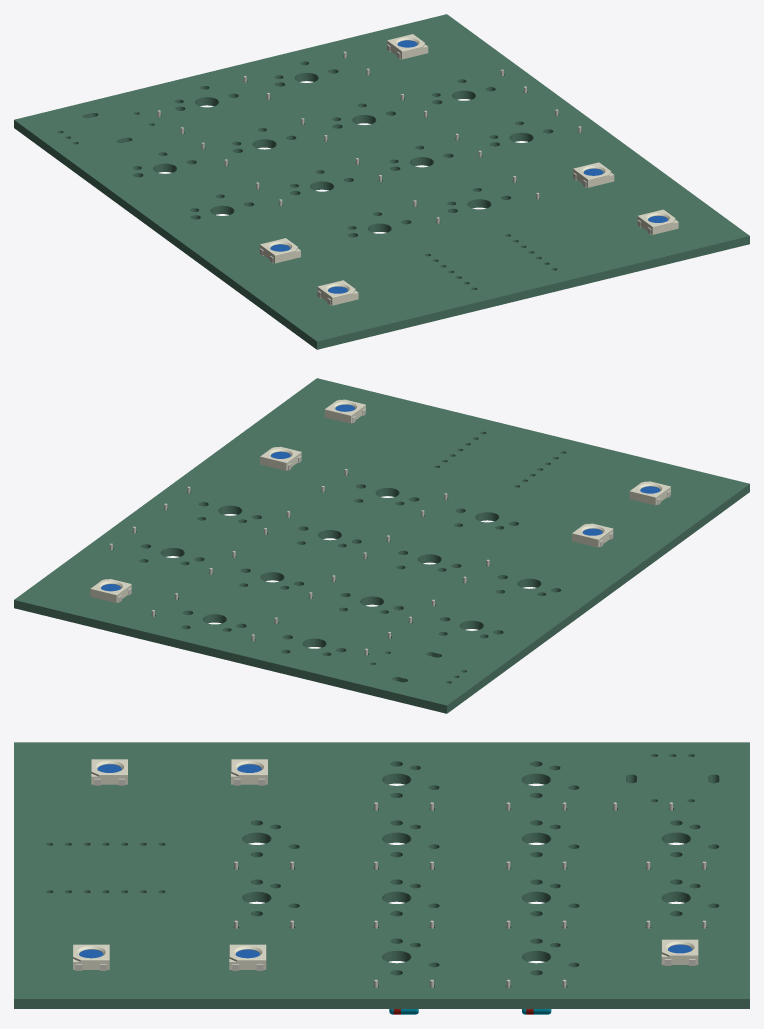
File: PCB.glb
The picture shows the model from 3 angles, top to bottom: view 1: azimuth 30°, elevation 25°; view 2: azimuth 150°, elevation 25°; view 3: azimuth 270°, elevation 25°; orthographic projection. The views are drawn at different scales.
Parts seen in each view (by area): view 1: =>[0:1:1:4], D14, D13, D17, D16, D15; view 2: =>[0:1:1:4], D13, D14, D17, D15, D16; view 3: =>[0:1:1:4], D15, D16, D17, D13, D14.
Part boxes in pixels (bbox=[...]): =>[0:1:1:4]: bbox=[14, 14, 749, 349]; D14: bbox=[317, 280, 358, 305]; D13: bbox=[259, 238, 300, 263]; D17: bbox=[637, 209, 678, 234]; D16: bbox=[573, 162, 614, 187]; D15: bbox=[387, 34, 428, 59]; =>[0:1:1:4]: bbox=[14, 378, 749, 713]; D13: bbox=[572, 523, 613, 547]; D14: bbox=[629, 481, 670, 505]; D17: bbox=[324, 399, 365, 423]; D15: bbox=[90, 579, 131, 602]; D16: bbox=[260, 446, 301, 470]; =>[0:1:1:4]: bbox=[14, 742, 749, 1008]; D15: bbox=[661, 939, 698, 966]; D16: bbox=[229, 944, 266, 970]; D17: bbox=[73, 944, 109, 970]; D13: bbox=[231, 759, 267, 785]; D14: bbox=[91, 759, 127, 785].
Size of the model in its own units: 0.0825 by 0.00579 by 0.1.
